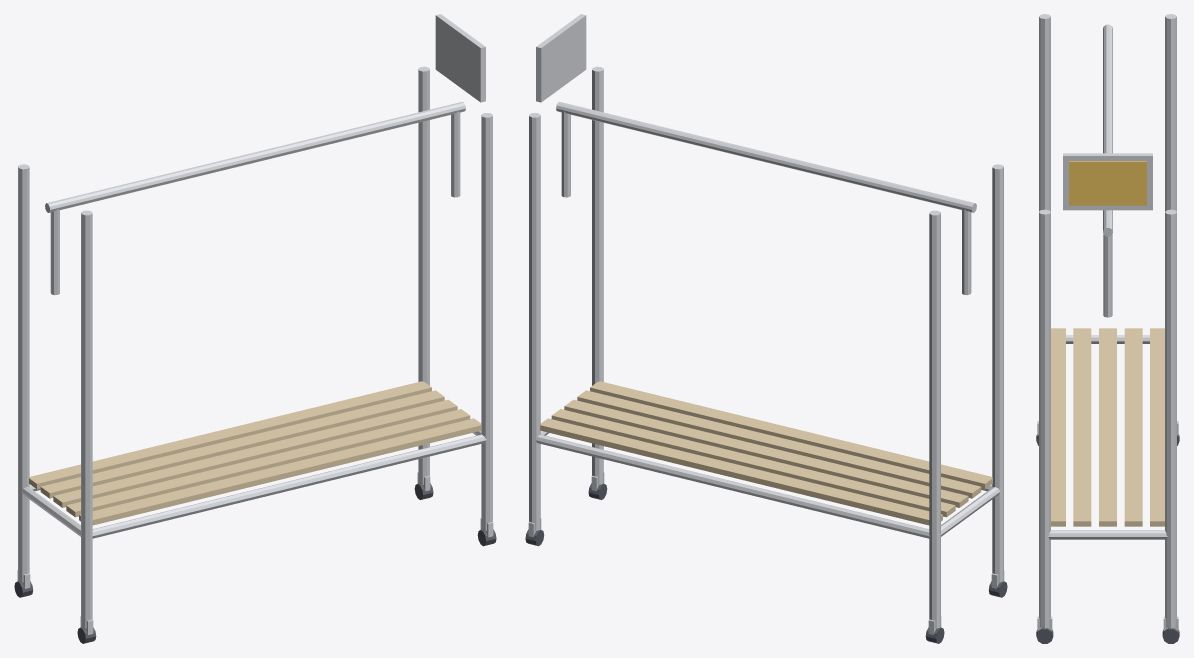
File: snowboard-gear-and-freestyle-riders-apparel-rail-be2c297d__27181.glb
3 views of the same model, side by side, from view 1: azimuth 30°, elevation 25°; view 2: azimuth 150°, elevation 25°; view 3: azimuth 270°, elevation 25° (orthographic).
Visible parts, largest first — view 1: apparel-rail; view 2: apparel-rail; view 3: apparel-rail.
Part boxes in pixels (box(x1,y1,x2,y2)): apparel-rail: box(14, 14, 496, 643); apparel-rail: box(525, 14, 1007, 643); apparel-rail: box(1036, 14, 1179, 643).
Bounding box in the file's own units: 1.6 × 1.8 × 0.4761.
